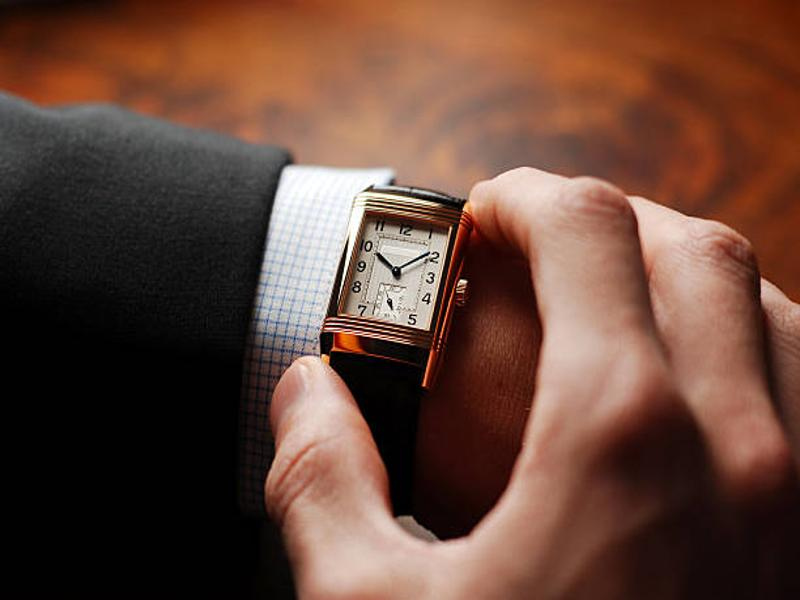watch: (317, 184, 478, 416)
